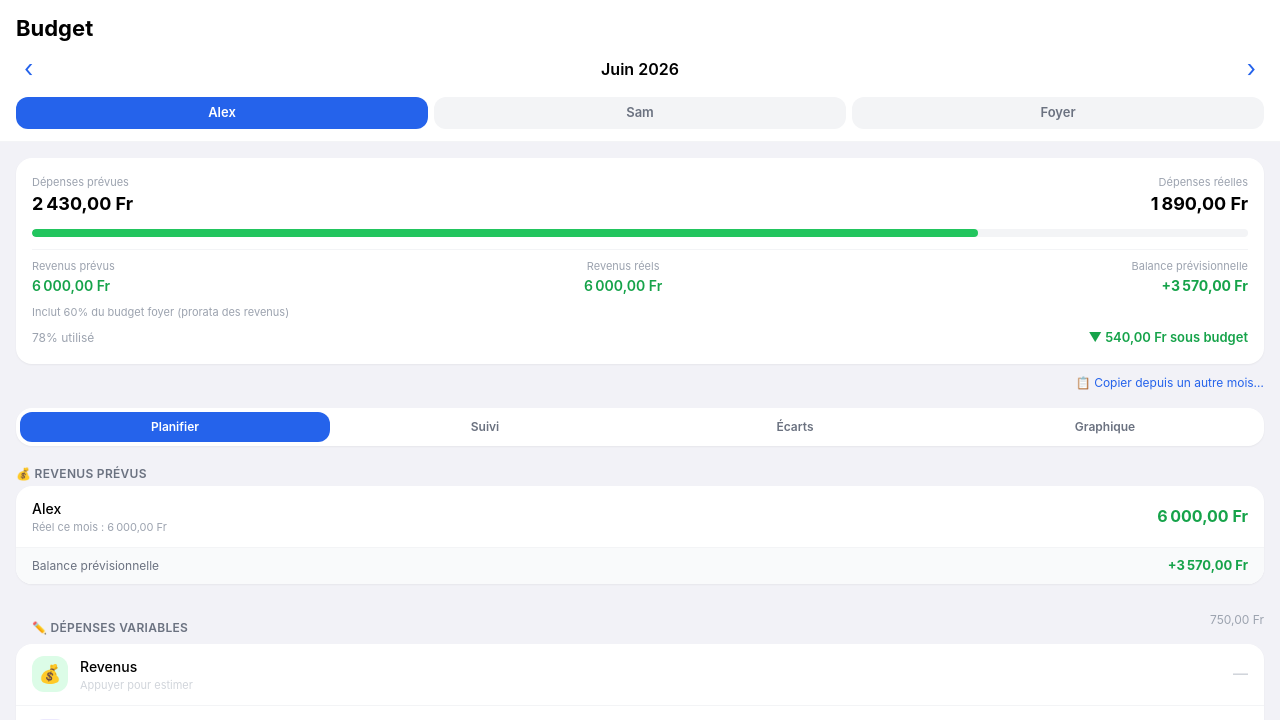
Écran Budget — juin 2026 (mois courant) › suivi Alex : le loyer affiche 1 200 / 1 200 (part au prorata)
What coordinates should you click on to do the following:
click the button "Suivi"
I would click on:
 (485, 426)
Its box is 330,412 -> 640,442.
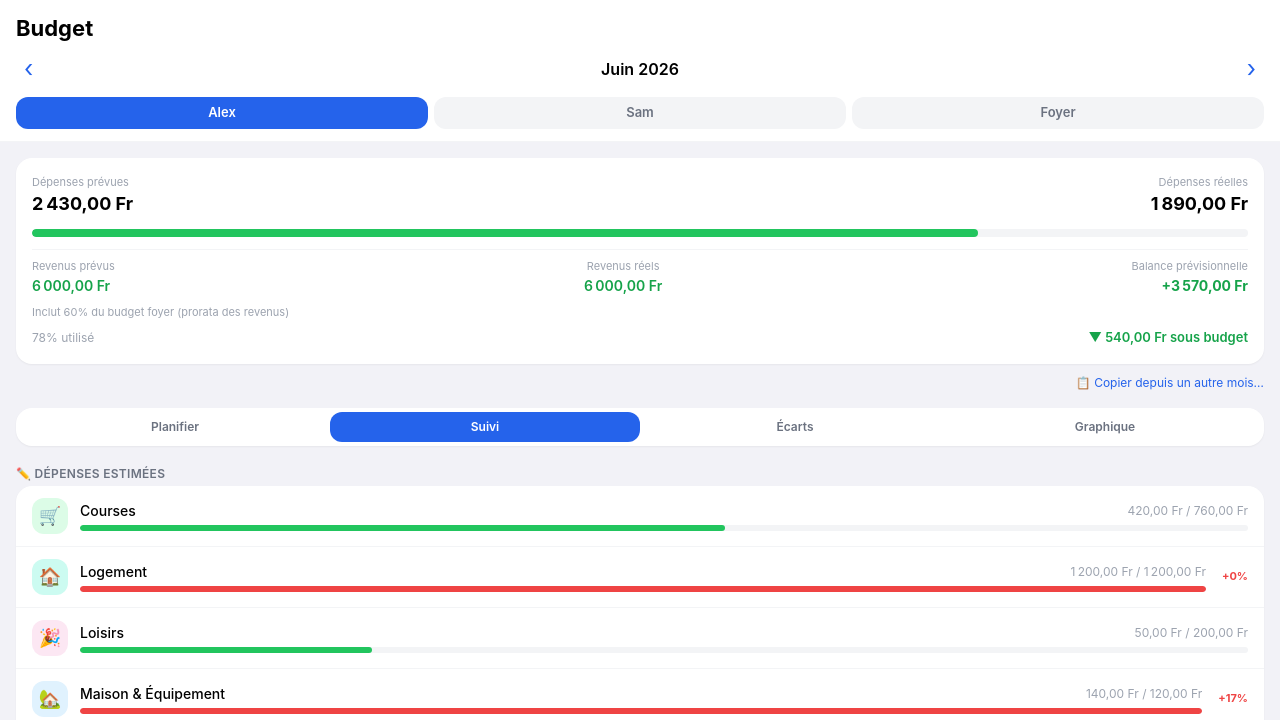
Check: the button "🏠 Logement 1 200,00 Fr / 1 200,00 Fr +0%" is shown, box 16,546 -> 1264,608
